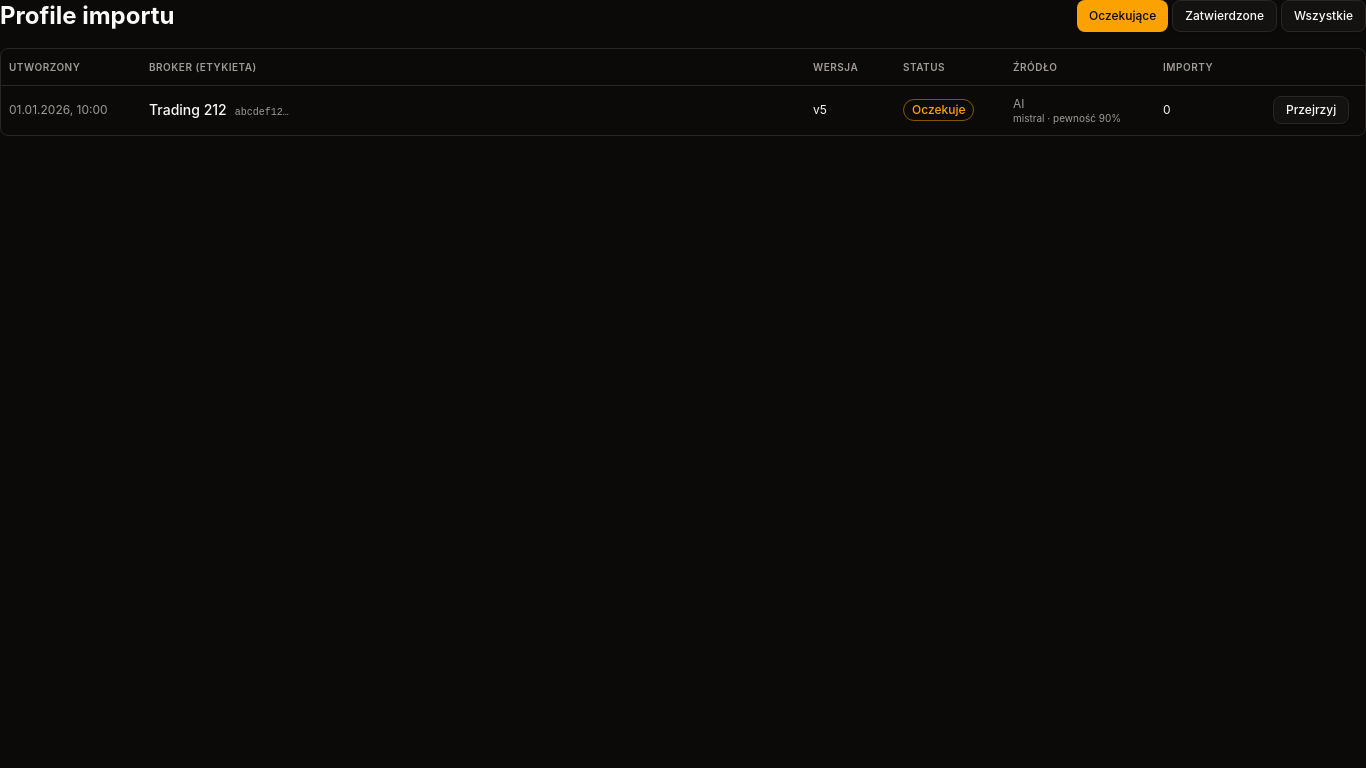
Test case: ImportProfilesPage — review › profil zbyt złożony (regexExtract) → edytor wizualny zablokowany, wymuszony JSON
Click the button "Przejrzyj" at (1311, 110), box [1273,96,1349,124]
(page scrolled)
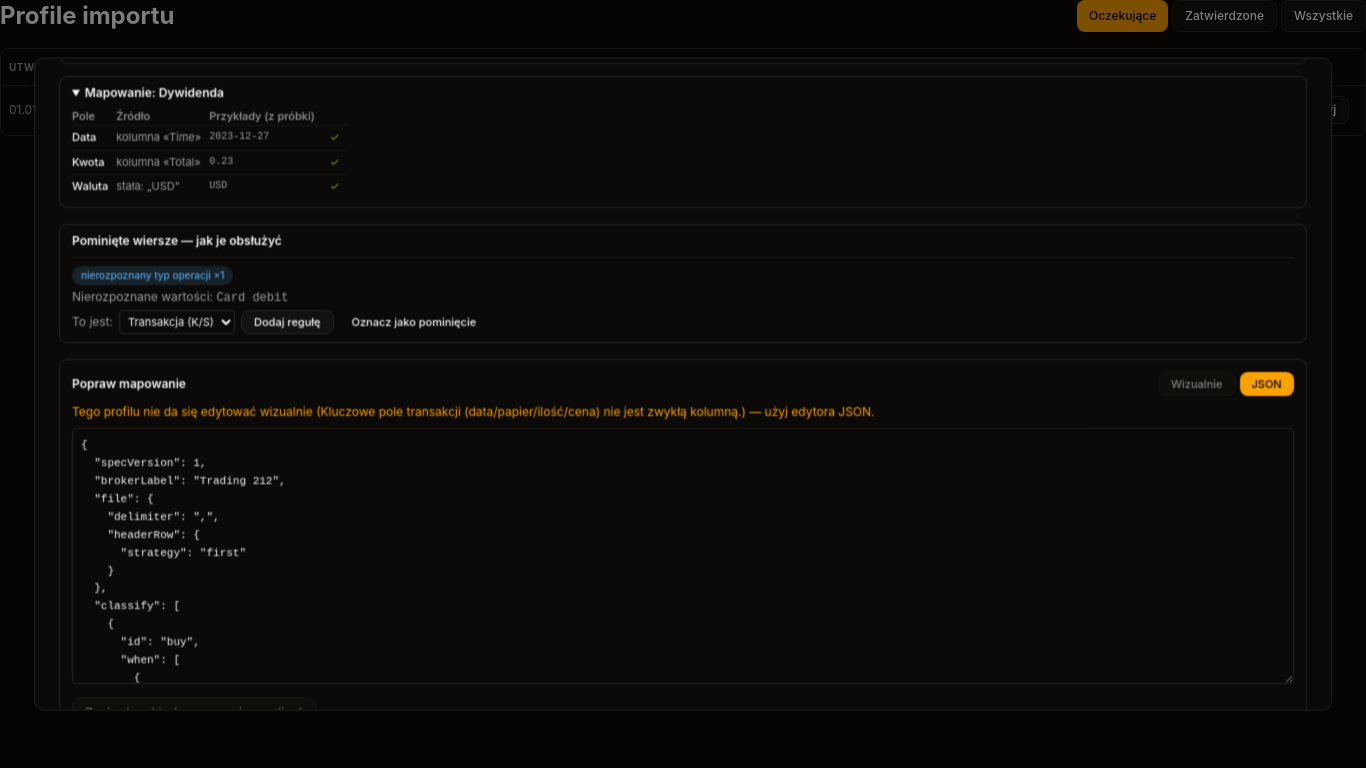
Result: the text "nie da się edytować wizualnie" is shown at [72,404,313,419]
Result: the button "Wizualnie" is disabled at [1158,372,1236,396]
